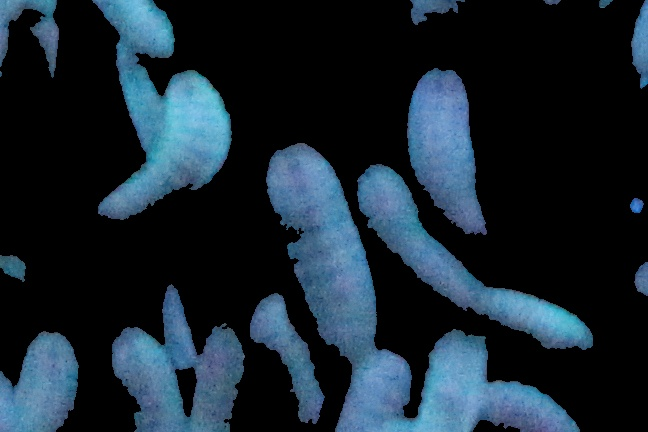larvae: (257, 141, 380, 368), (88, 61, 232, 240), (348, 156, 485, 308), (405, 64, 512, 239), (472, 279, 593, 367), (104, 320, 187, 432), (332, 343, 432, 432), (55, 1, 196, 64), (184, 317, 252, 432), (422, 327, 486, 432), (479, 370, 573, 432)
